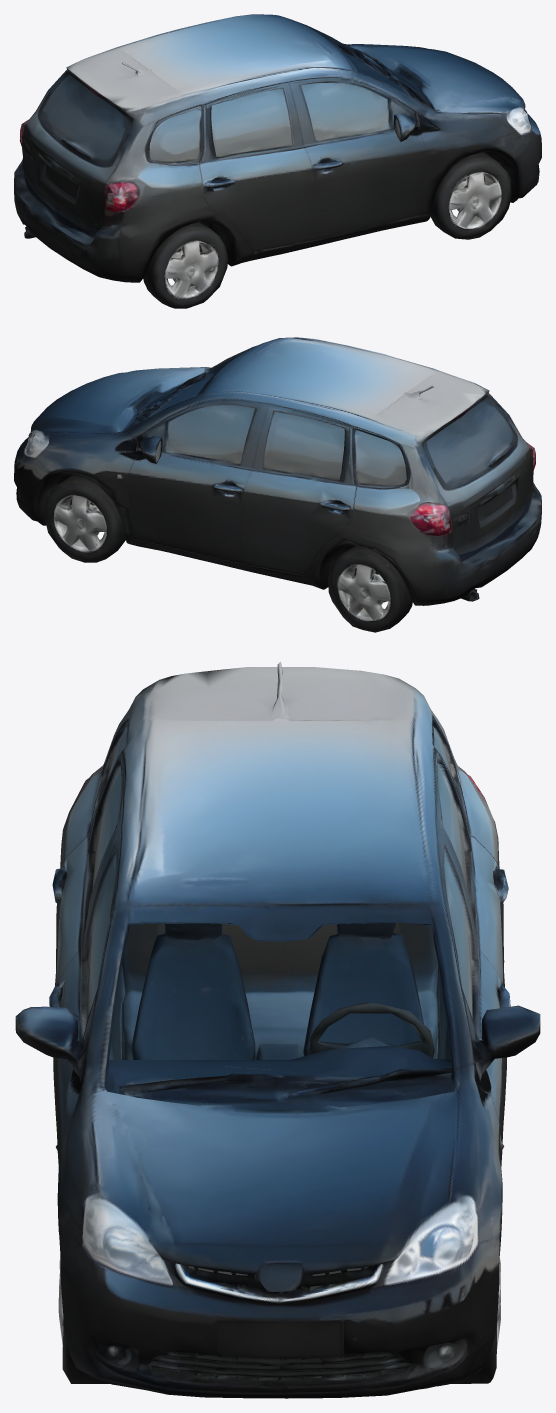
The model's file is dxb_tiida.glb.
The picture shows the model from 3 angles, top to bottom: view 1: azimuth 30°, elevation 25°; view 2: azimuth 150°, elevation 25°; view 3: azimuth 270°, elevation 25°; orthographic projection. The views are drawn at different scales.
Visible parts, largest first — view 1: tripo_node_02079cb5-1d6e-4a0d-acf5-4eb3272e8c1a; view 2: tripo_node_02079cb5-1d6e-4a0d-acf5-4eb3272e8c1a; view 3: tripo_node_02079cb5-1d6e-4a0d-acf5-4eb3272e8c1a.
Part boxes in pixels (x1=…): tripo_node_02079cb5-1d6e-4a0d-acf5-4eb3272e8c1a: x1=14, y1=14, x2=541, y2=308; tripo_node_02079cb5-1d6e-4a0d-acf5-4eb3272e8c1a: x1=14, y1=337, x2=541, y2=632; tripo_node_02079cb5-1d6e-4a0d-acf5-4eb3272e8c1a: x1=15, y1=661, x2=540, y2=1398.
Bounding box in the file's own units: 1 × 0.4292 × 0.4823.
1 material, 1 textured.
